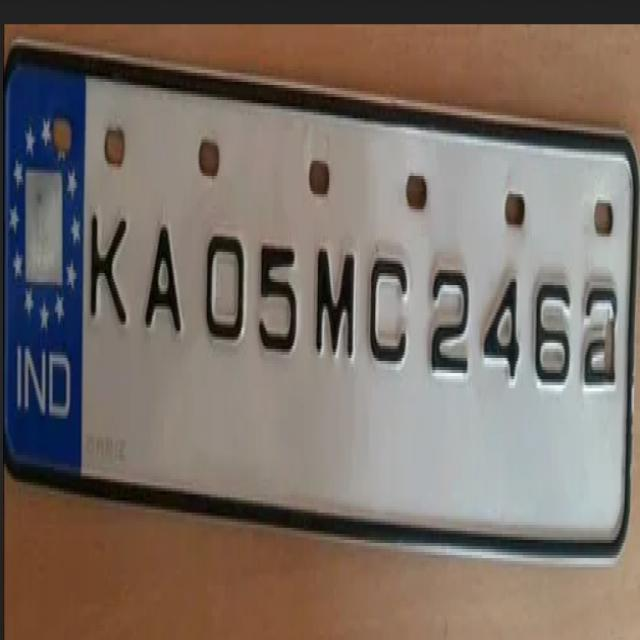0: (205, 220, 248, 360)
4: (480, 266, 520, 420)
5: (256, 232, 304, 372)
6: (536, 258, 582, 409)
A: (140, 205, 193, 348)
C: (367, 241, 419, 375)
K: (84, 194, 136, 342)
M: (308, 228, 361, 381)
